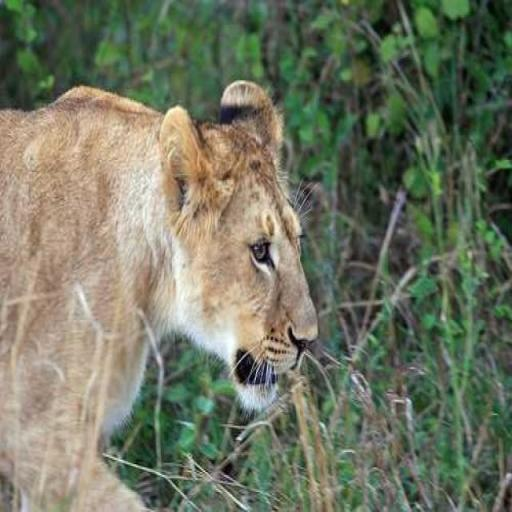Lion: (0, 77, 321, 510)
